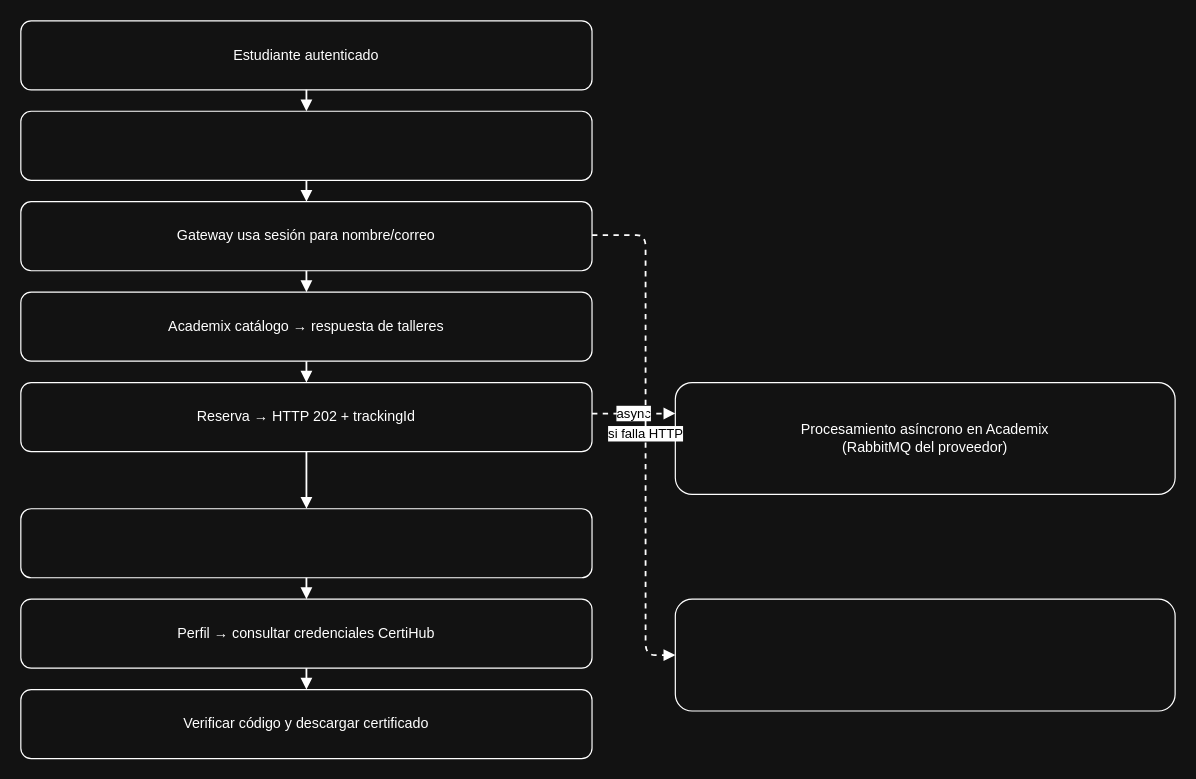
This 1196x779 diagram has some shape labels left out. Here are the shapes that lost their labels. From the top down, the centre of each, then its label:
(306,145): Clase → consulta talleres relacionados al curso
(306,543): UI consulta estado con trackingId
(924,654): Timeout / proveedor no disponible Mostrar error controlado; no confirmar reserva
